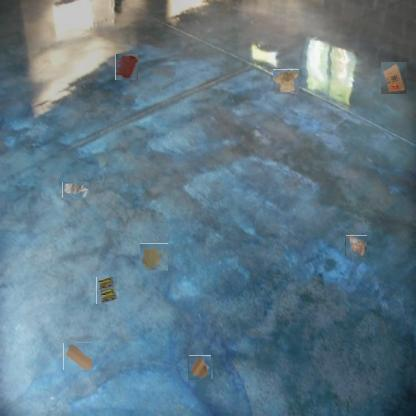dirty: (63, 342, 94, 370), (381, 62, 407, 94), (96, 276, 119, 304), (274, 69, 299, 93), (189, 356, 212, 380), (345, 235, 367, 256), (62, 182, 89, 198)
liquid: (141, 243, 168, 271), (115, 55, 139, 80)
